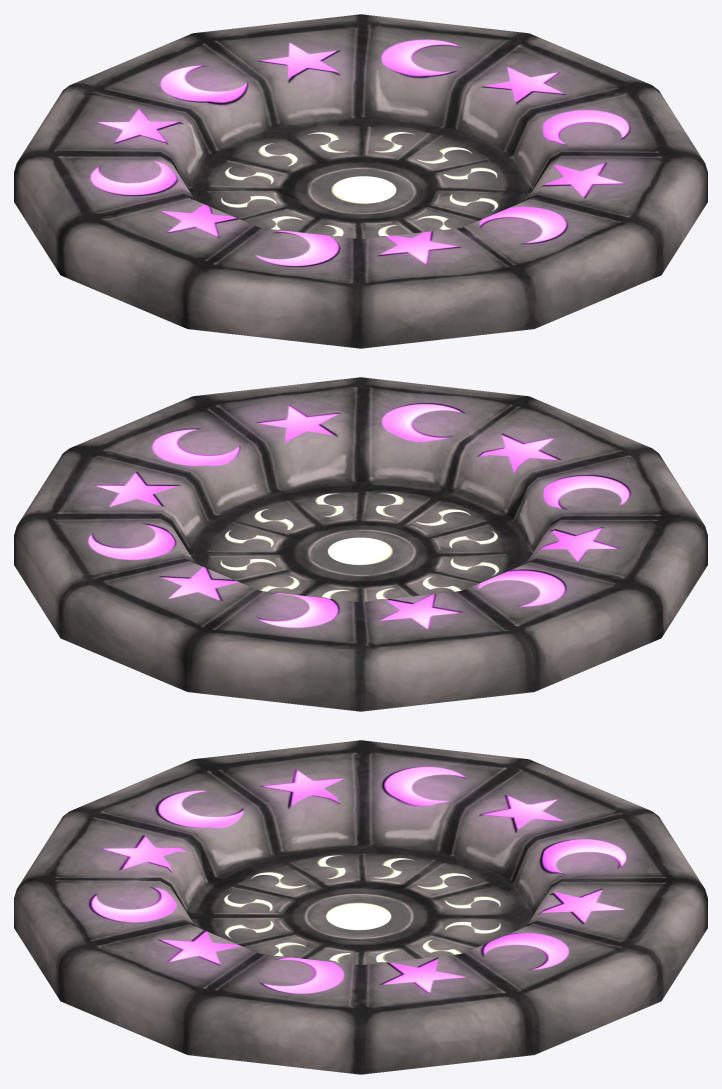
Rendered from stoneplatform_celestial.glb.
The picture shows the model from 3 angles, top to bottom: view 1: azimuth 30°, elevation 25°; view 2: azimuth 150°, elevation 25°; view 3: azimuth 270°, elevation 25°; orthographic projection.
Parts seen in each view (by area): view 1: Portal_StonePlatform-Celestial, Portal_StonePlatform-Inscryption-Celestial; view 2: Portal_StonePlatform-Celestial, Portal_StonePlatform-Inscryption-Celestial; view 3: Portal_StonePlatform-Celestial, Portal_StonePlatform-Inscryption-Celestial.
Boxes of the visible parts, x1,y1,x2,y2 form: Portal_StonePlatform-Celestial: (14,14,707,348); Portal_StonePlatform-Inscryption-Celestial: (221,132,498,236); Portal_StonePlatform-Celestial: (14,377,707,711); Portal_StonePlatform-Inscryption-Celestial: (220,493,499,599); Portal_StonePlatform-Celestial: (14,740,707,1074); Portal_StonePlatform-Inscryption-Celestial: (224,855,500,962).
Bounding box in the file's own units: 5.5 × 0.4204 × 5.5.
Materials: 2 (2 with a texture image).
